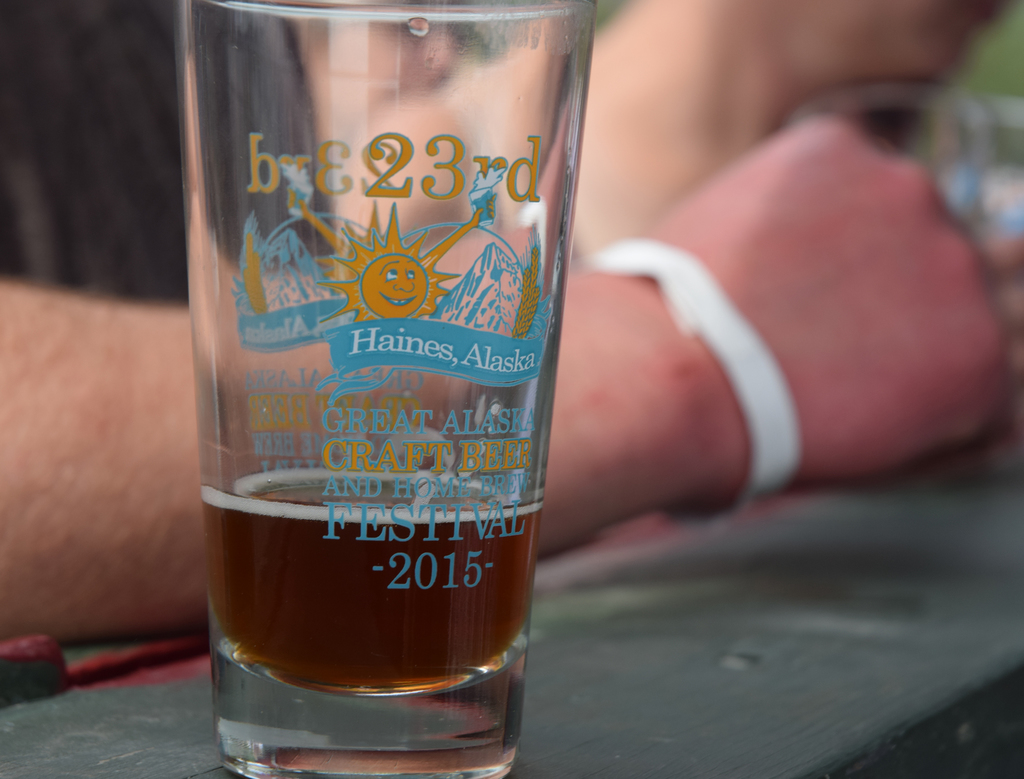Beer: (200, 466, 546, 694)
